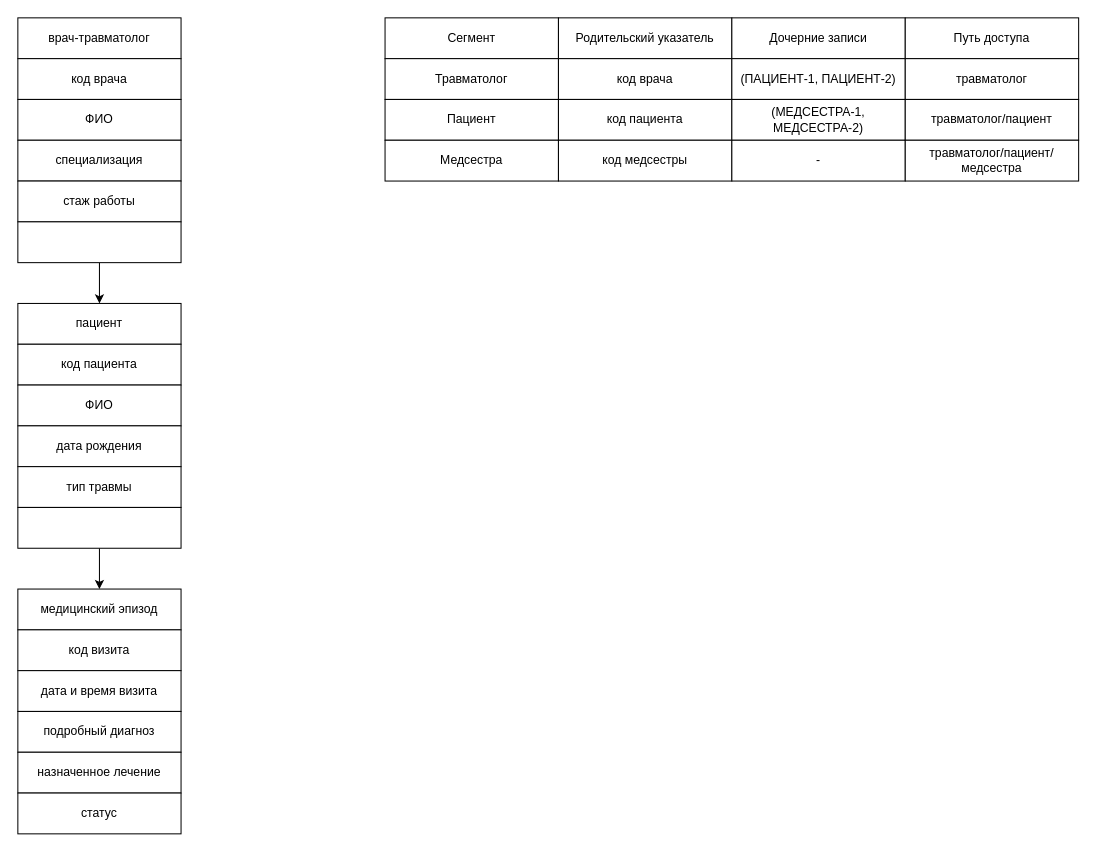
Image size: 1097x852. Some labels were removed from this diagram. Here are the shapes that lost their labels. From the top down, the centre of each, then its label:
[99,242]: номер телефона
[99,527]: дата поступления
